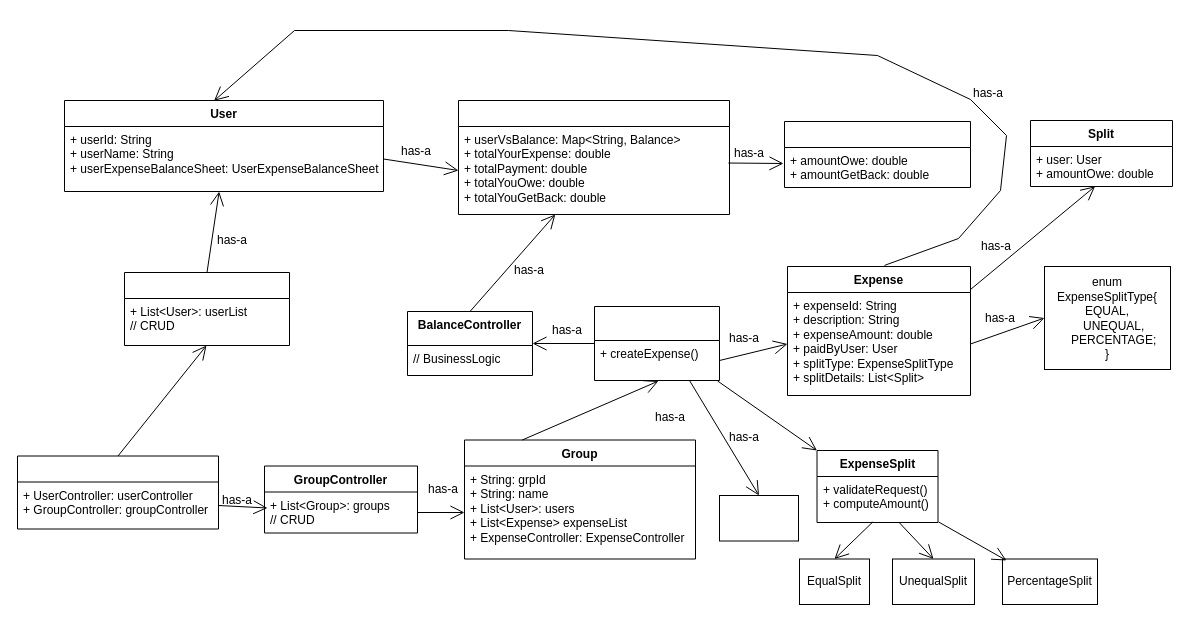
This 1190x622 diagram has some shape labels left out. The shapes that lost their labels are listed below. From the top down, each one's box as (x1, y1, x2, y2) in pixels, then its label:
(458, 100, 730, 214): UserExpenseBalanceSheet
(784, 120, 970, 188): Balance
(124, 272, 290, 346): UserController
(594, 306, 720, 380): ExpenseController
(16, 455, 218, 529): Splitwise
(718, 494, 798, 541): SplitFactory
